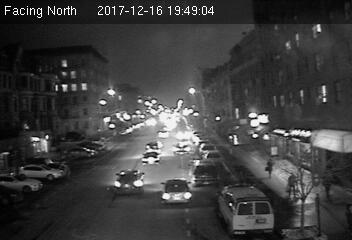car: (186, 159, 221, 187), (113, 169, 147, 195), (161, 178, 193, 205), (141, 151, 161, 167)
police: (214, 182, 273, 234)
